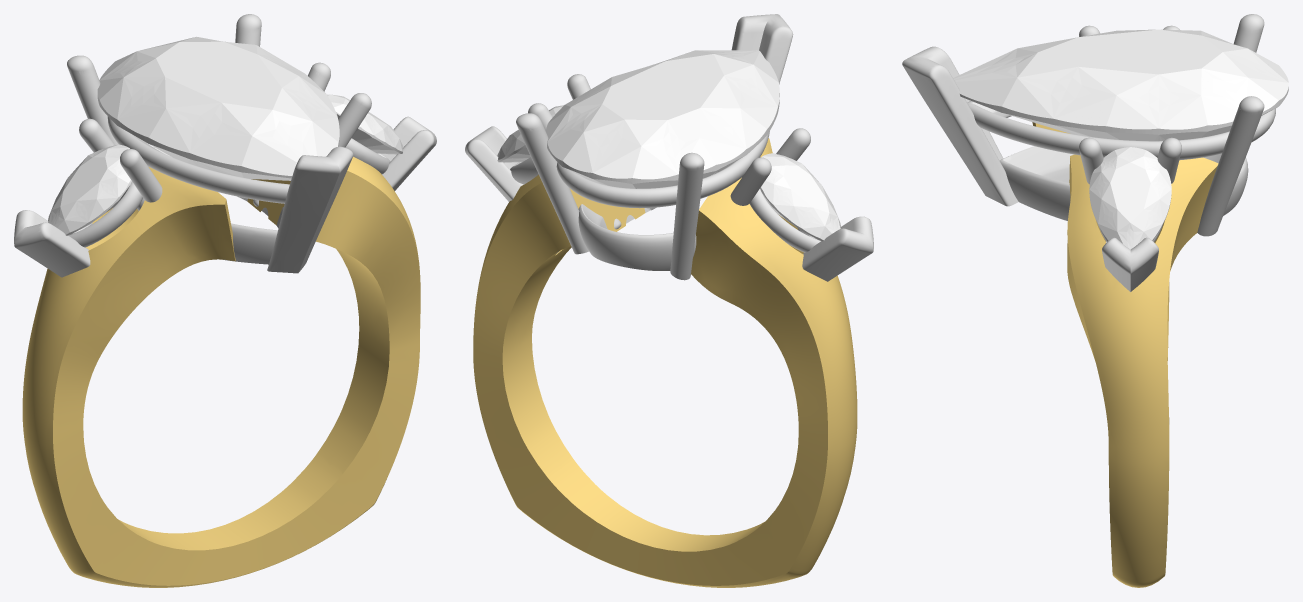
The model's file is daveNancy_webgi.glb.
3 renders of one model, left to right at view 1: azimuth 30°, elevation 25°; view 2: azimuth 150°, elevation 25°; view 3: azimuth 270°, elevation 25°, orthographic. The views are drawn at different scales.
Visible parts, largest first — view 1: David_and_nancy_yg_for_3d_model, David_and_nancy_dia__for_3d_model001, David_and_nancy_PT_for_3d_model, David_and_nancy_dia__for_3d_model, David_and_nancy_dia__for_3d_model002; view 2: David_and_nancy_yg_for_3d_model, David_and_nancy_PT_for_3d_model, David_and_nancy_dia__for_3d_model001, David_and_nancy_dia__for_3d_model, David_and_nancy_dia__for_3d_model002; view 3: David_and_nancy_yg_for_3d_model, David_and_nancy_dia__for_3d_model001, David_and_nancy_PT_for_3d_model, David_and_nancy_dia__for_3d_model002.
Boxes of the visible parts, bbox=[...] form: David_and_nancy_yg_for_3d_model: bbox=[22, 156, 420, 587]; David_and_nancy_dia__for_3d_model001: bbox=[97, 36, 339, 180]; David_and_nancy_PT_for_3d_model: bbox=[14, 14, 436, 277]; David_and_nancy_dia__for_3d_model: bbox=[48, 144, 131, 235]; David_and_nancy_dia__for_3d_model002: bbox=[327, 94, 403, 154]; David_and_nancy_yg_for_3d_model: bbox=[473, 138, 857, 587]; David_and_nancy_PT_for_3d_model: bbox=[465, 14, 873, 281]; David_and_nancy_dia__for_3d_model001: bbox=[546, 50, 779, 210]; David_and_nancy_dia__for_3d_model: bbox=[760, 153, 840, 241]; David_and_nancy_dia__for_3d_model002: bbox=[497, 105, 563, 162]; David_and_nancy_yg_for_3d_model: bbox=[1032, 122, 1218, 587]; David_and_nancy_dia__for_3d_model001: bbox=[953, 29, 1288, 141]; David_and_nancy_PT_for_3d_model: bbox=[902, 14, 1275, 291]; David_and_nancy_dia__for_3d_model002: bbox=[1089, 147, 1171, 249].
Size of the model in its own units: 2.34 by 2.66 by 1.86.
